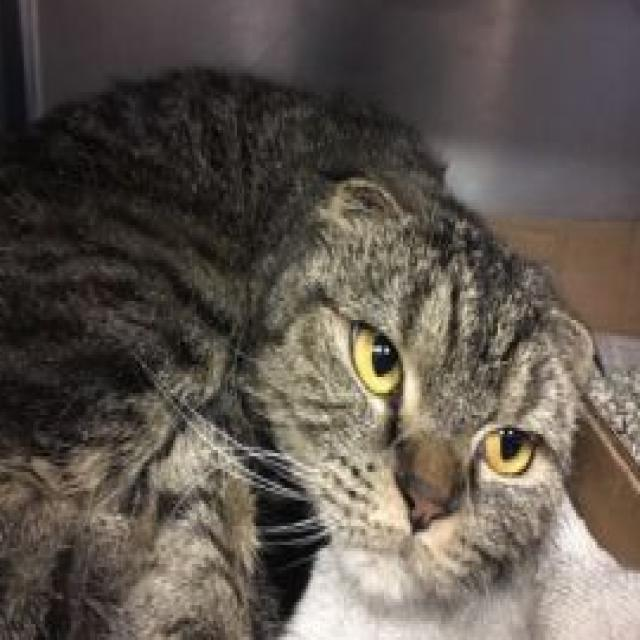Scottish Fold: (0, 60, 602, 640)
